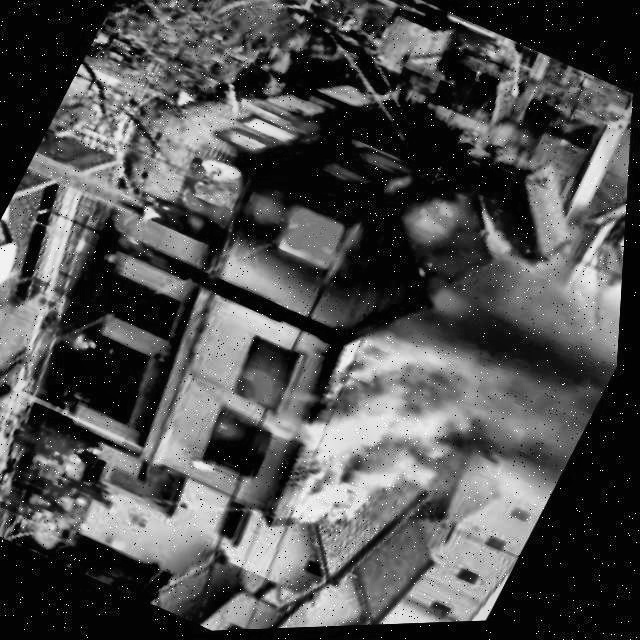Fire: (134, 59, 487, 340), (207, 333, 313, 476)
Smoke: (263, 199, 630, 628)
